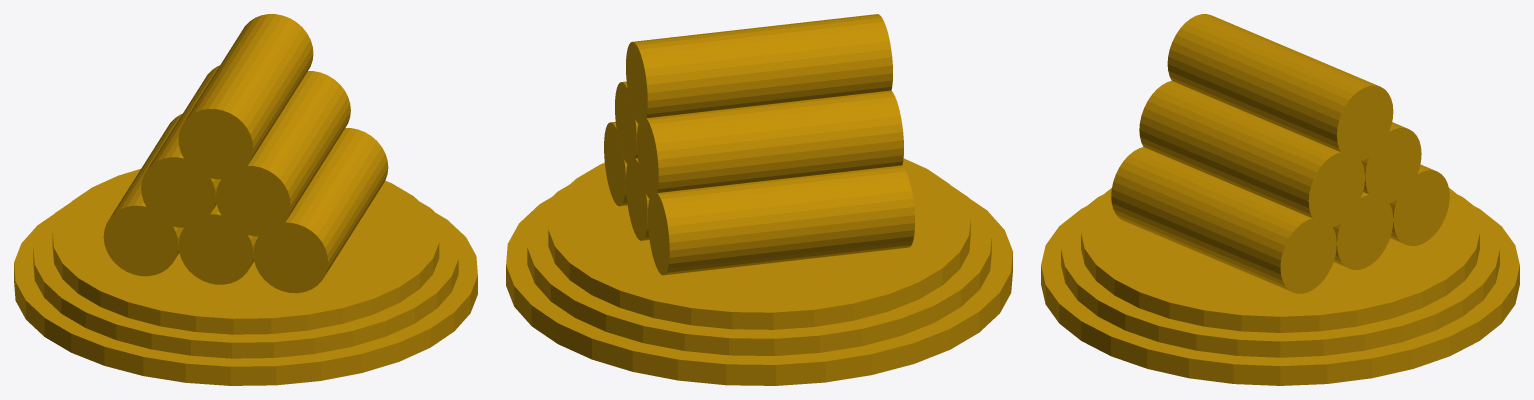
File: harbor_wood.glb
3 renders of one model, left to right at view 1: azimuth 30°, elevation 25°; view 2: azimuth 150°, elevation 25°; view 3: azimuth 270°, elevation 25°, orthographic. The views are drawn at different scales.
Visible parts, largest first — view 1: harbor_wood; view 2: harbor_wood; view 3: harbor_wood.
Boxes of the visible parts, x1=… form: harbor_wood: x1=14, y1=14, x2=477, y2=385; harbor_wood: x1=506, y1=14, x2=1012, y2=385; harbor_wood: x1=1041, y1=14, x2=1519, y2=385.
Bounding box in the file's own units: 12 × 6.45 × 12.
